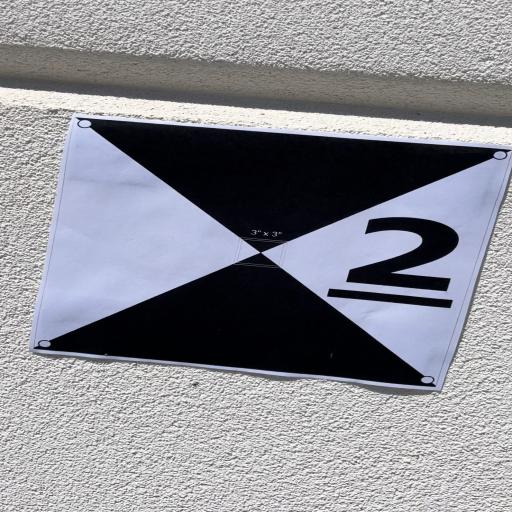target2: (30, 115, 512, 389)
